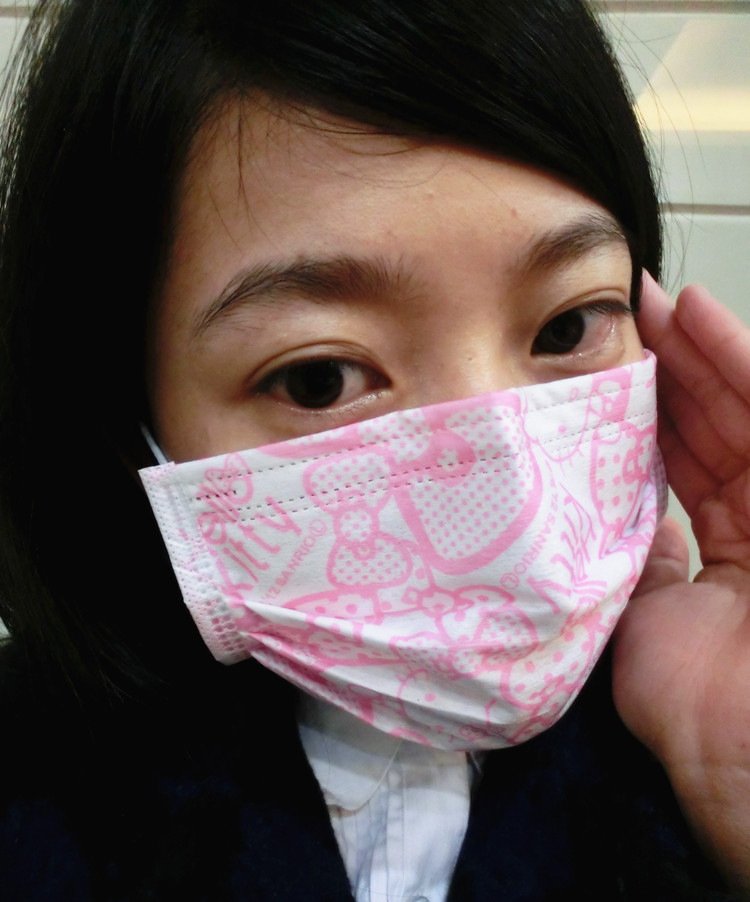face_mask: (153, 150, 660, 753)
